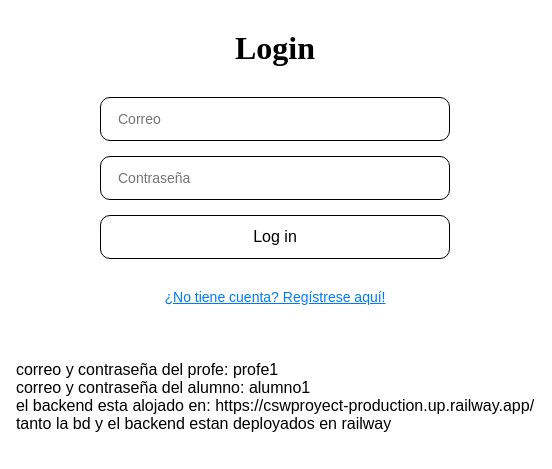
Test case: Login › muestra error cuando solo falta el correo
The image size is (552, 469).
Type "password123" into the password field with placeholder "Contraseña". click: {"x": 270, "y": 178}
box: [116, 168, 424, 186]
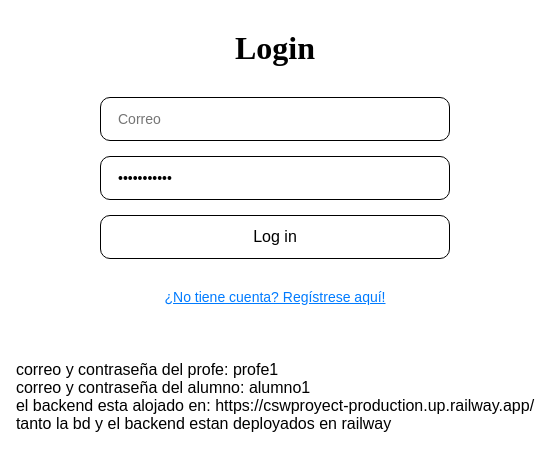
Click the button "Log in". click: {"x": 275, "y": 236}
box: [100, 214, 450, 258]
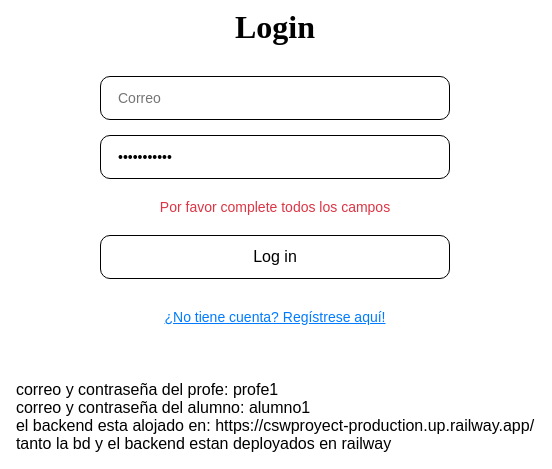
expect the text "Por favor complete todos los campos" is shown: met, box [160, 199, 390, 215]
